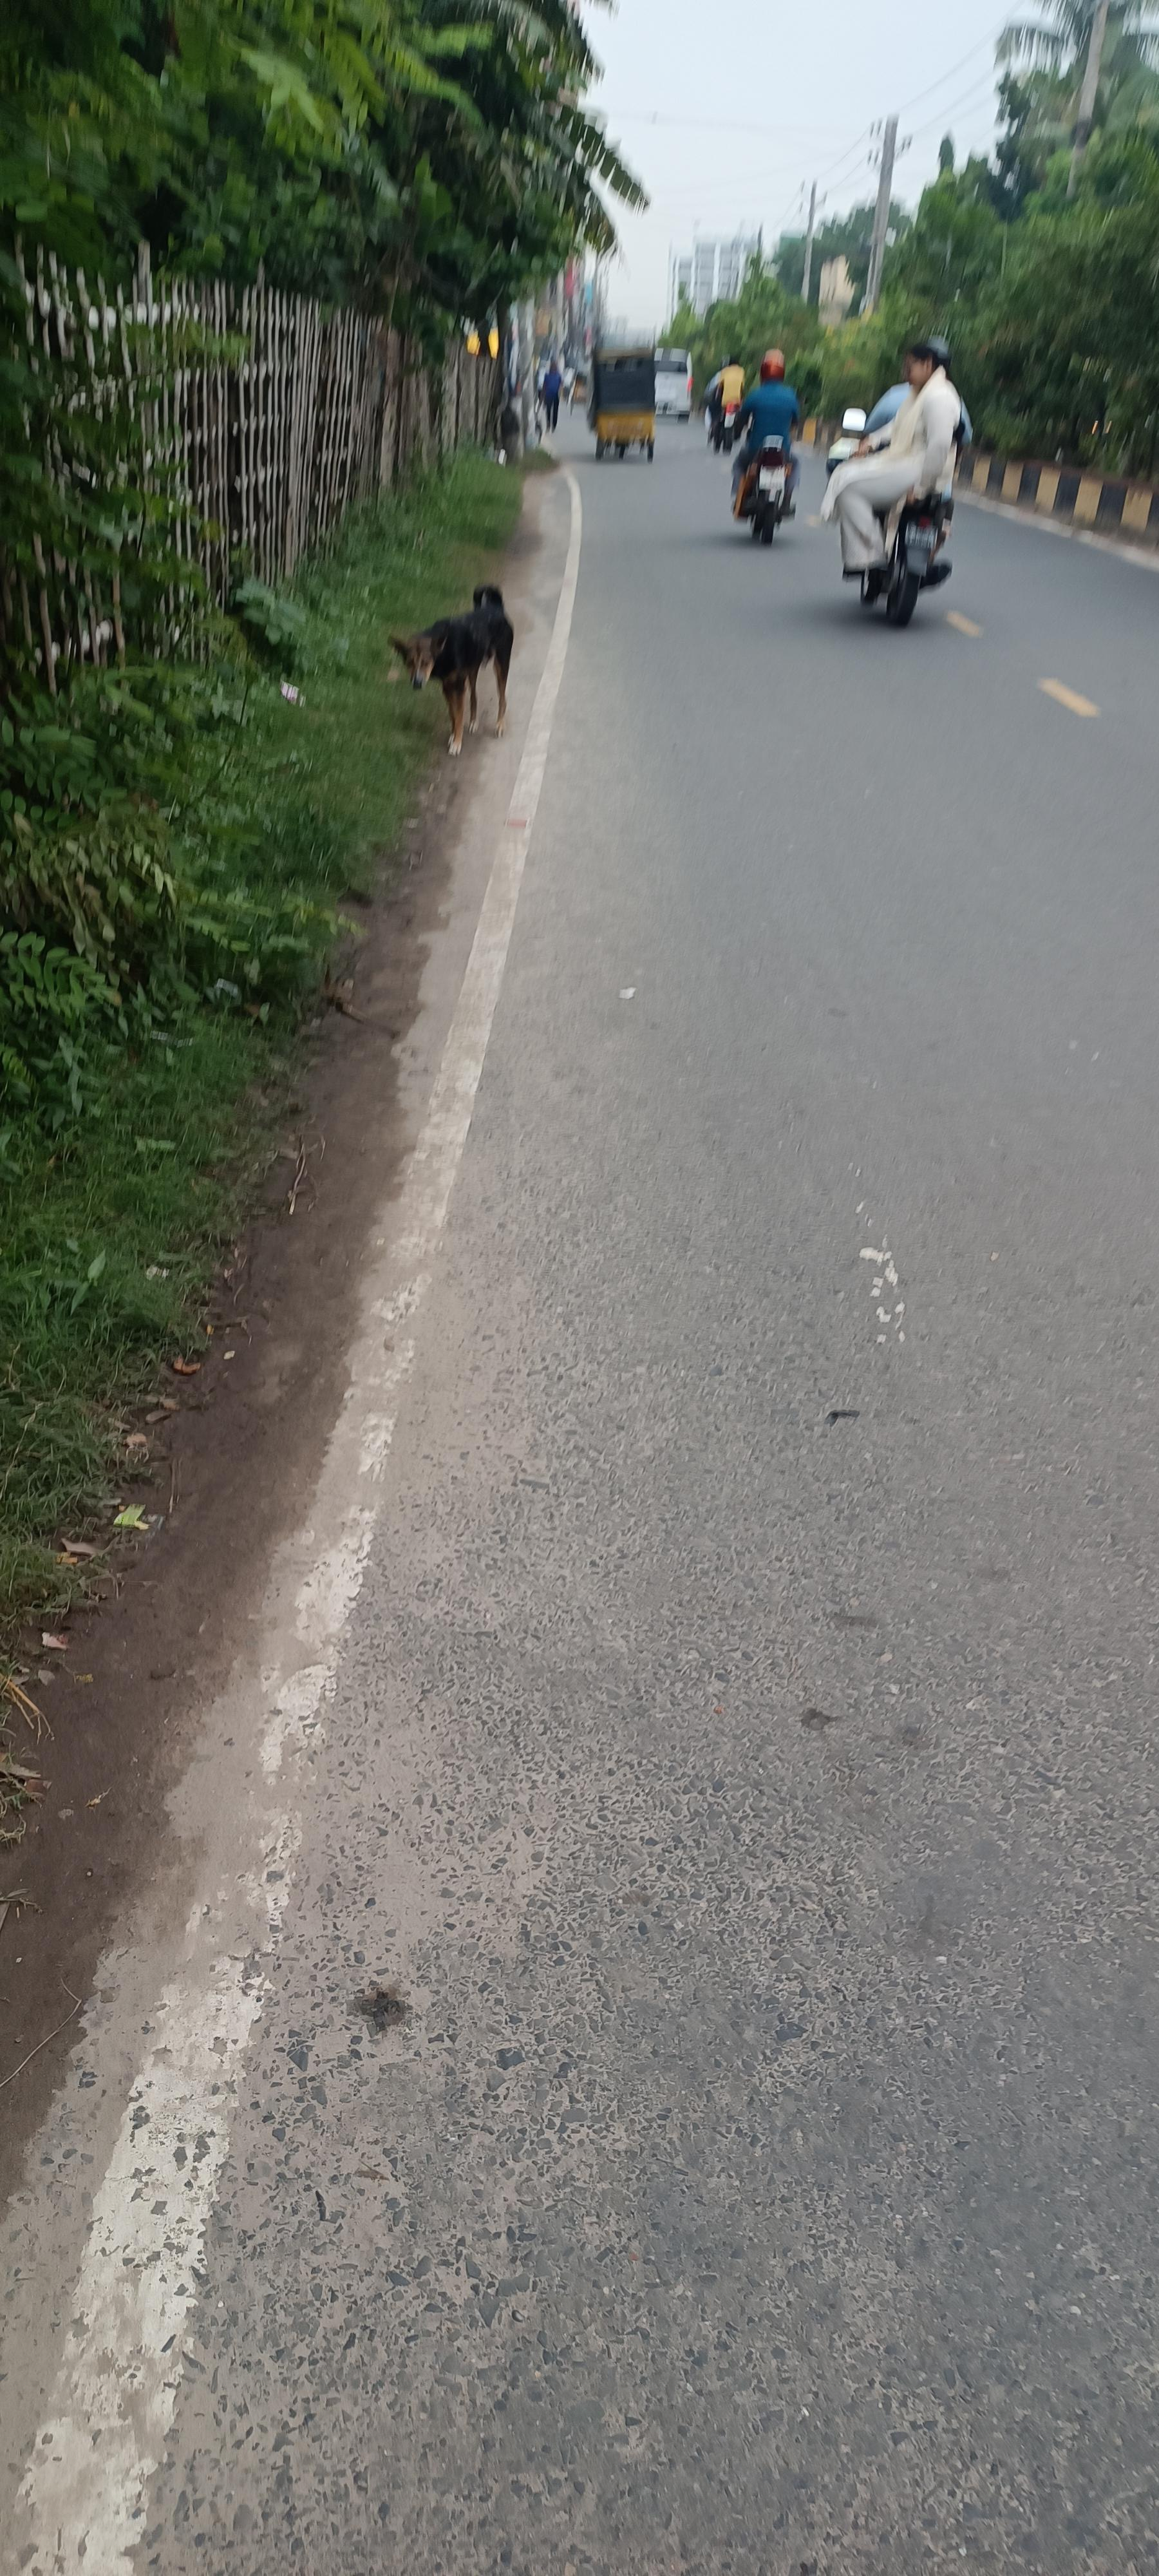Crosswalk: (386, 582, 515, 757)
Downstairs: (588, 345, 658, 462)
Fallen-tree: (822, 406, 965, 628)
Garbage-bin: (729, 350, 801, 517), (704, 355, 747, 450), (538, 360, 565, 432)
